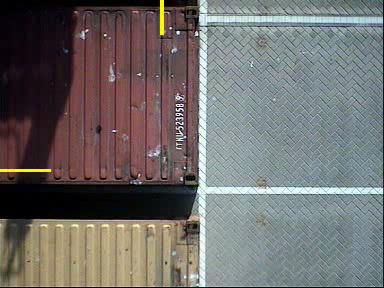groundmarker_2: (202, 51, 235, 97), (203, 226, 236, 272)
